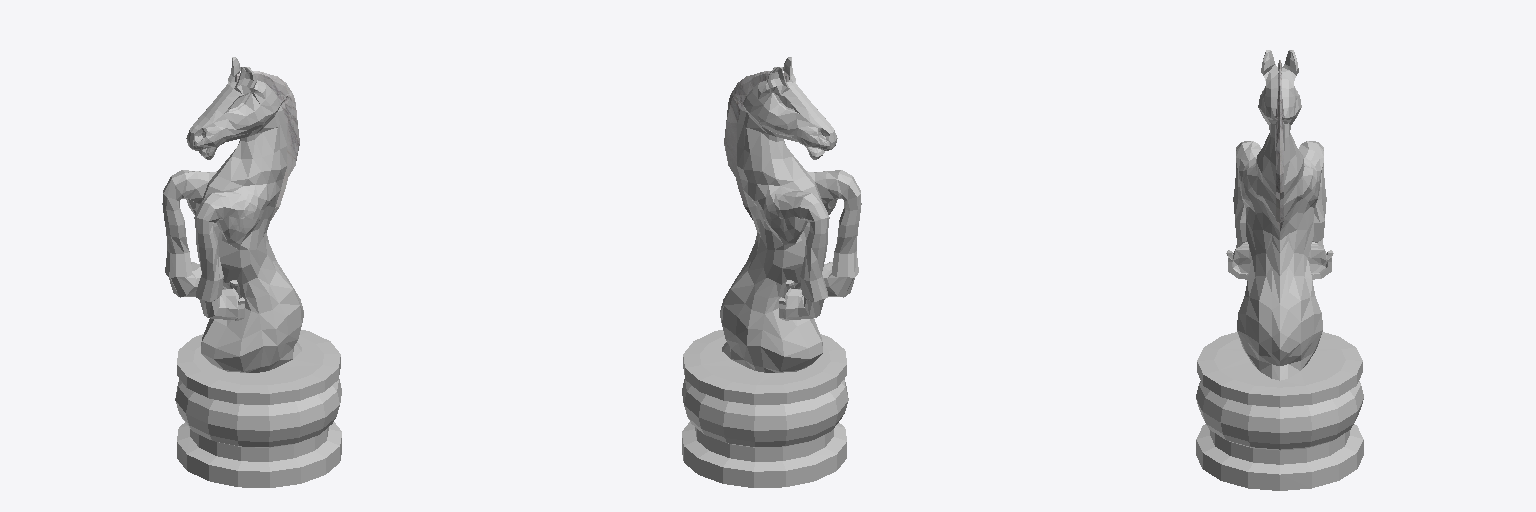
The picture shows the model from 3 angles: view 1: azimuth 30°, elevation 25°; view 2: azimuth 150°, elevation 25°; view 3: azimuth 270°, elevation 25°; orthographic projection.
Visible parts, largest first — view 1: kon_bialy.001; view 2: kon_bialy.001; view 3: kon_bialy.001.
Part boxes in pixels (x1,y1,x2,y2): kon_bialy.001: (162,57,341,487); kon_bialy.001: (682,57,861,487); kon_bialy.001: (1196,50,1363,490).
Size of the model in its own units: 1.28 by 3.18 by 1.23.
Materials: 3 (1 with a texture image).